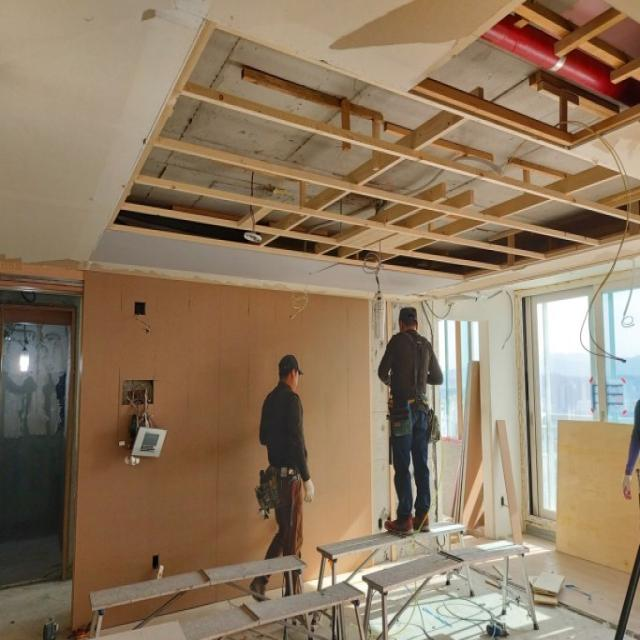board: (555, 419, 640, 574), (462, 360, 485, 530)
wood: (180, 81, 640, 224), (154, 136, 602, 247), (259, 86, 484, 246), (135, 174, 547, 260), (120, 202, 502, 272), (369, 166, 625, 262), (384, 122, 573, 180), (513, 0, 640, 82), (314, 182, 446, 255), (338, 190, 474, 258), (241, 66, 383, 123), (384, 122, 494, 164), (554, 7, 628, 58), (496, 420, 523, 545)
